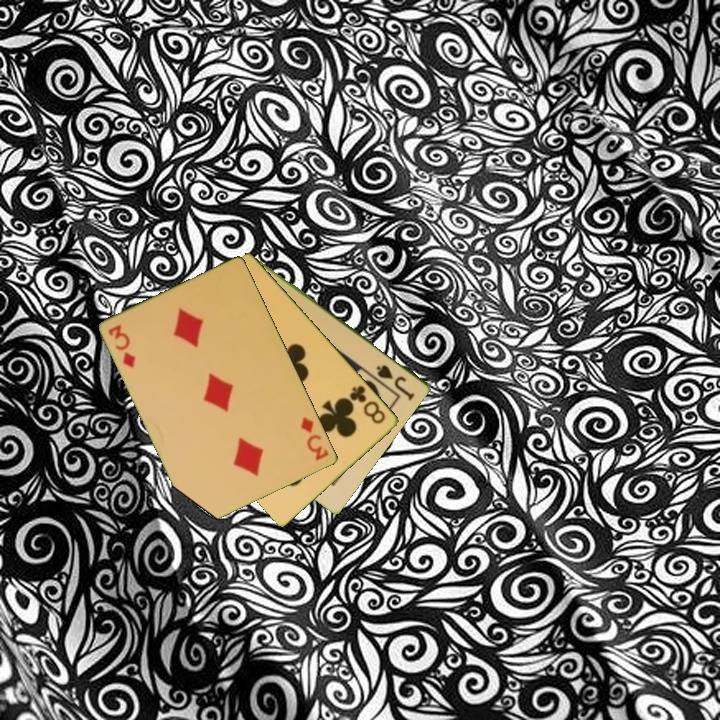3d: (298, 413, 332, 463), (105, 321, 139, 371)
8c: (346, 382, 389, 427)
Js: (373, 361, 418, 402)
